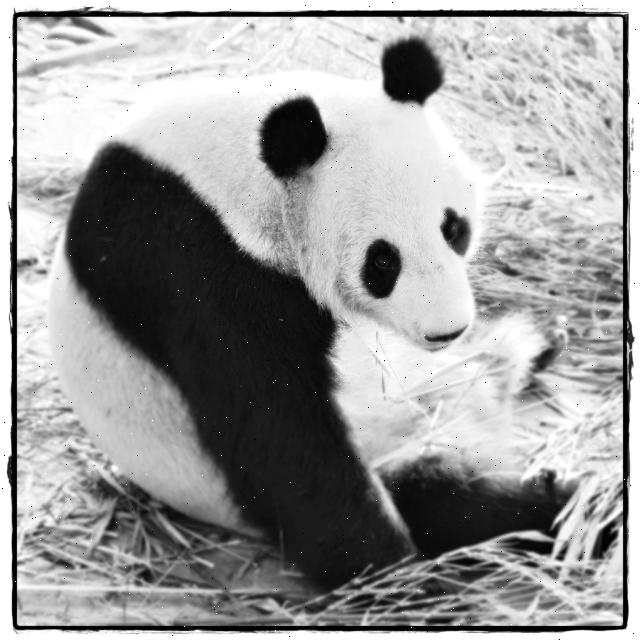panda: (50, 41, 616, 611)
